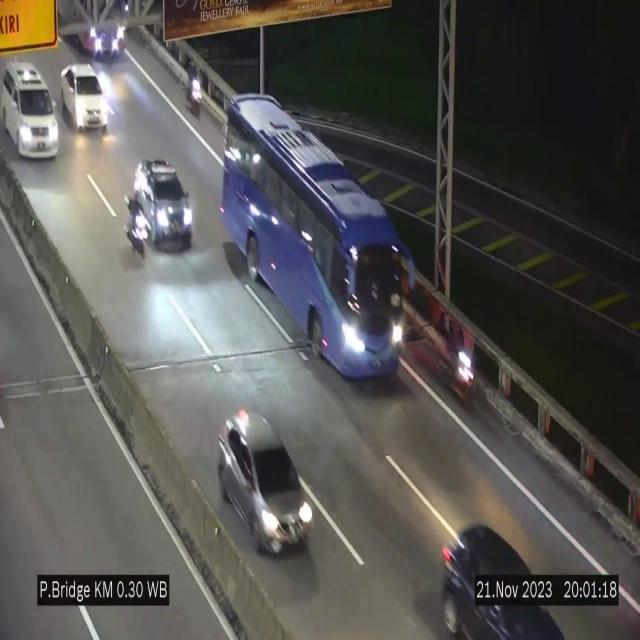Bus: (223, 96, 405, 386), (62, 0, 134, 58)
Car: (433, 516, 572, 640), (217, 410, 315, 553), (135, 156, 196, 248), (1, 62, 58, 158), (61, 64, 106, 128)
Motorcycle: (439, 323, 476, 412), (124, 188, 150, 260), (187, 65, 206, 116)
